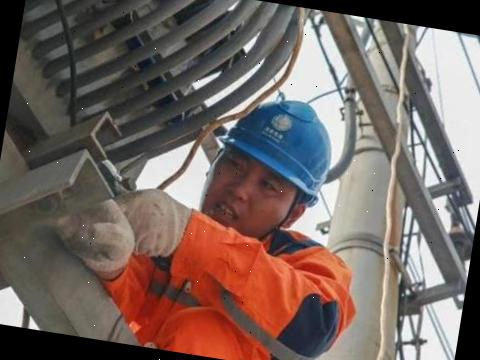helmet: (204, 86, 351, 207)
wear: (109, 216, 355, 360)
